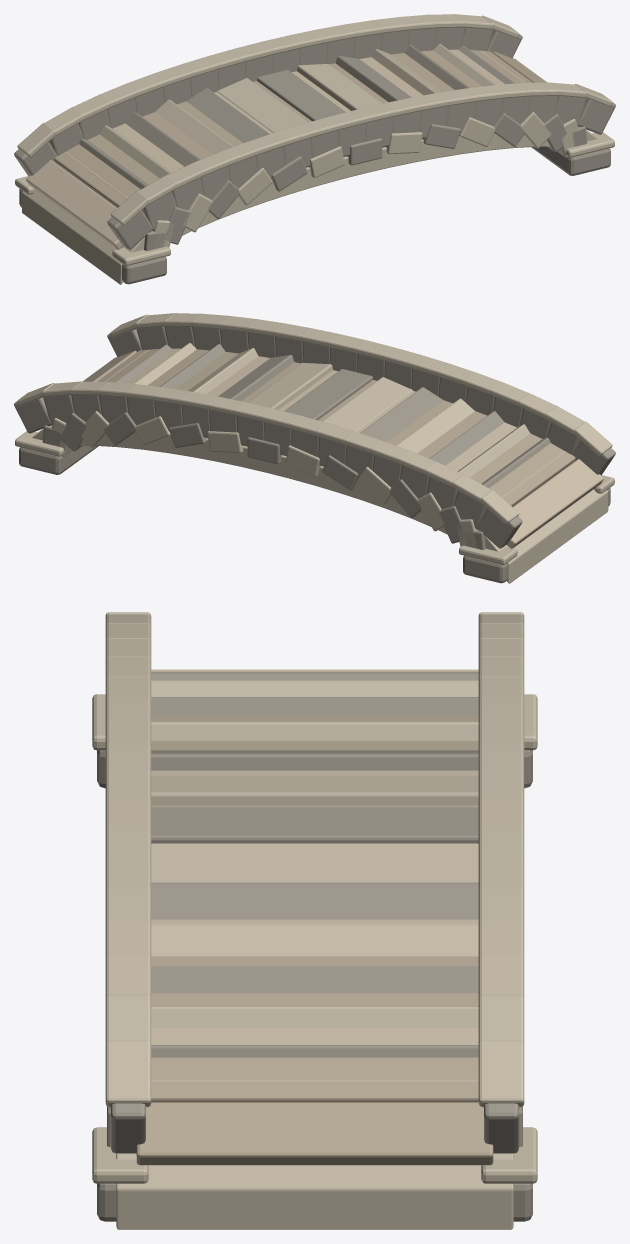
The model's file is stone_bridge.glb.
The picture shows the model from 3 angles, top to bottom: view 1: azimuth 30°, elevation 25°; view 2: azimuth 150°, elevation 25°; view 3: azimuth 270°, elevation 25°; orthographic projection. The views are drawn at different scales.
Parts seen in each view (by area): view 1: StoneBridge_Geometry; view 2: StoneBridge_Geometry; view 3: StoneBridge_Geometry.
Boxes of the visible parts, x1,y1,x2,y2 form: StoneBridge_Geometry: [14, 14, 615, 284]; StoneBridge_Geometry: [14, 313, 615, 583]; StoneBridge_Geometry: [92, 612, 537, 1229].
Size of the model in its own units: 8.63 by 1.82 by 3.32.
